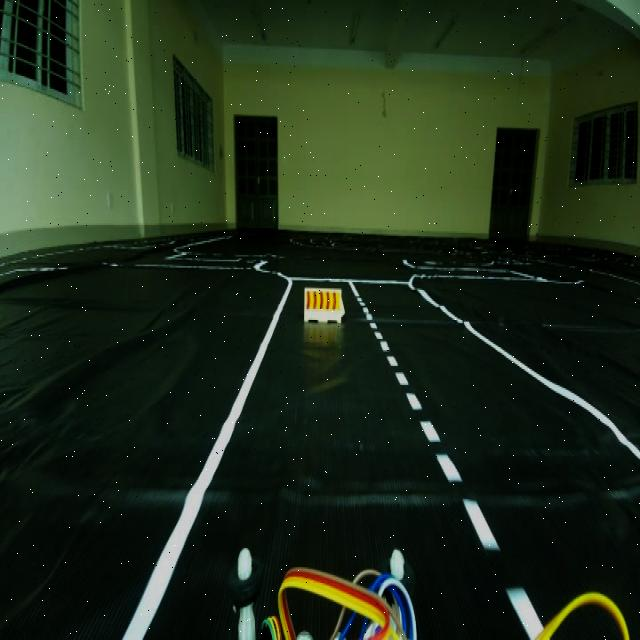roadblock: (301, 281, 348, 334)
